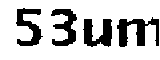3: (48, 6, 79, 50)
5: (10, 4, 45, 53)
m: (114, 14, 160, 50)
u: (80, 14, 115, 53)
